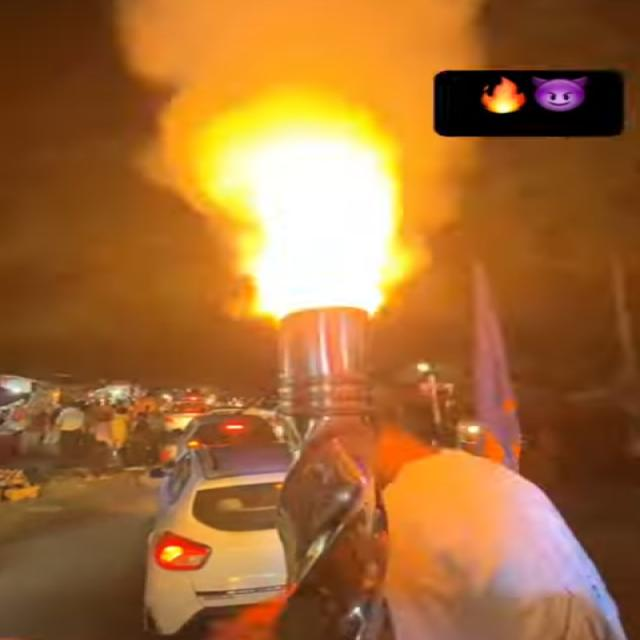fire: (199, 84, 409, 323)
